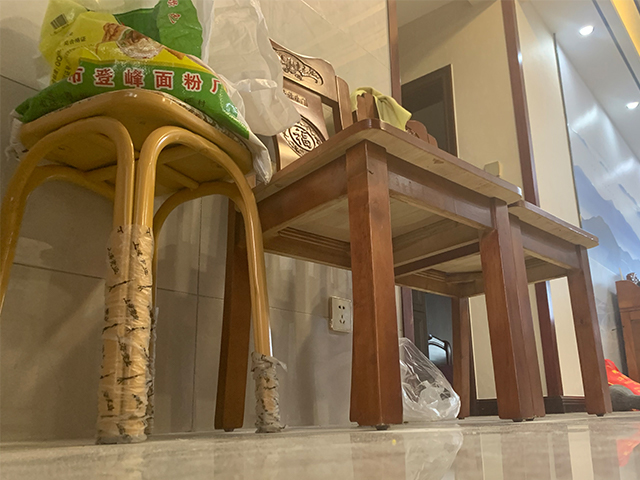stool: (214, 38, 535, 432), (1, 88, 282, 446), (352, 89, 615, 422)
